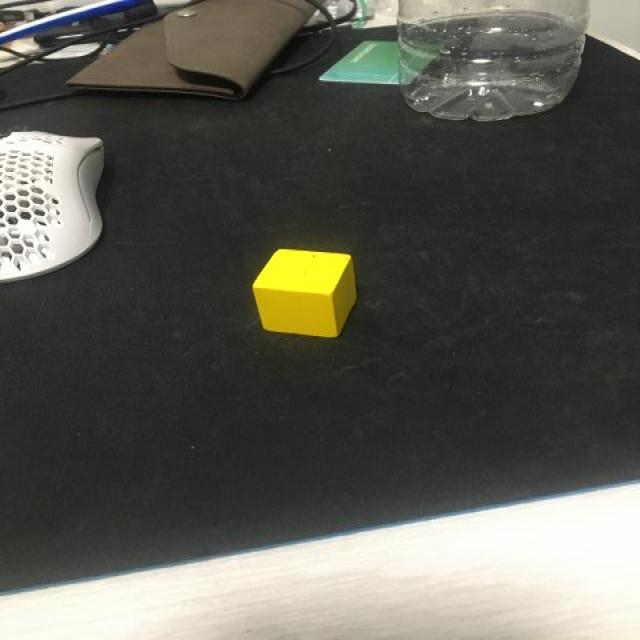yellow: (253, 248, 357, 339)
